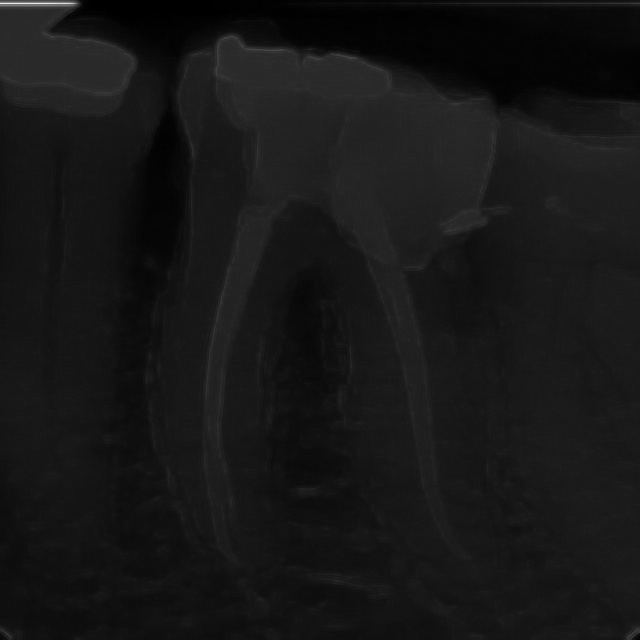Class 0- No endodontic treatment: (150, 24, 524, 598)
cavity: (0, 16, 184, 628)
